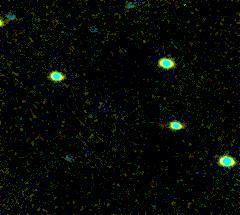star: (0, 13, 18, 43)
